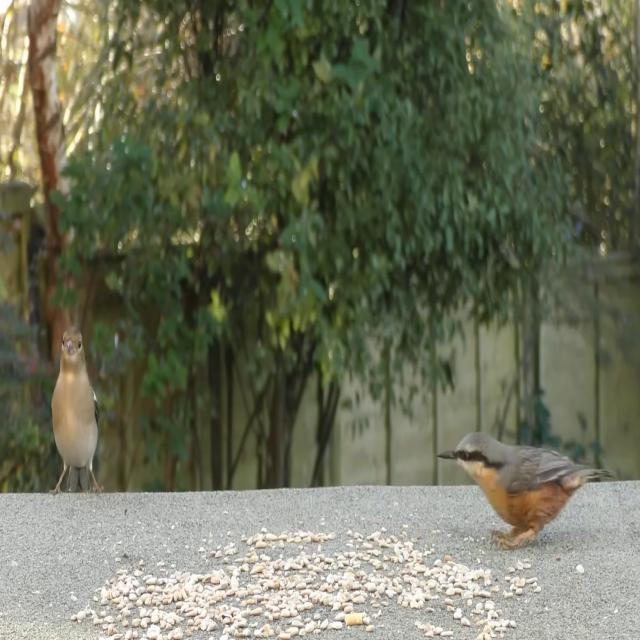beak: (436, 431, 458, 472), (65, 337, 75, 358)
bird: (437, 417, 607, 548), (48, 324, 105, 501)
